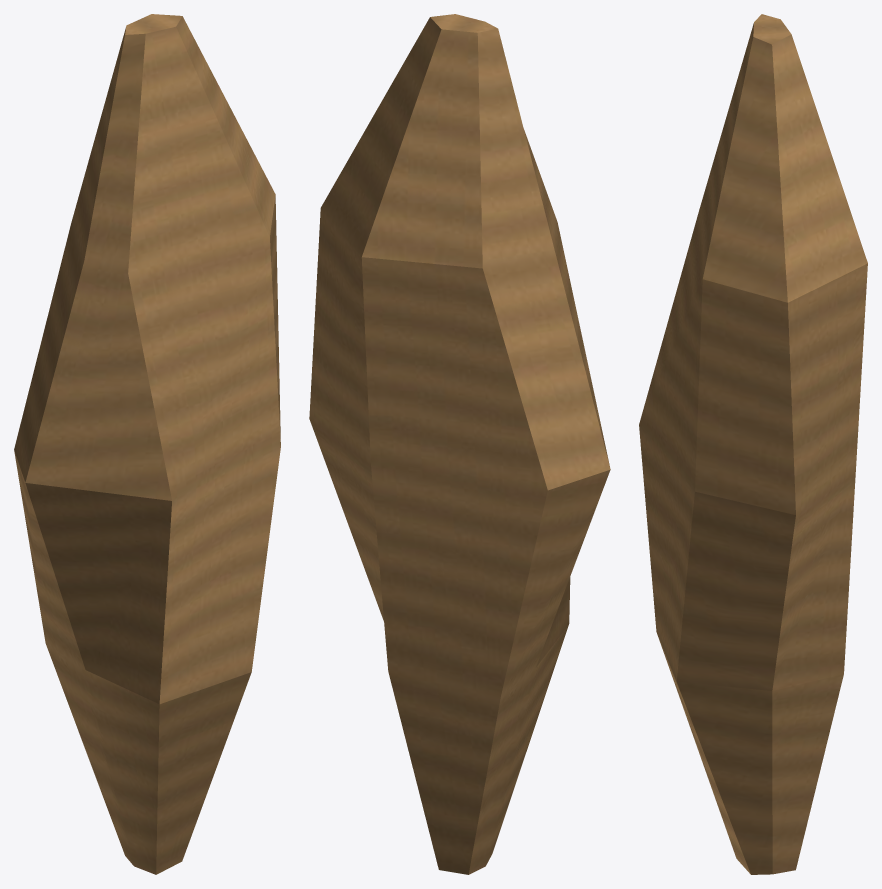
Rendered from chip1.glb.
3 renders of one model, left to right at view 1: azimuth 30°, elevation 25°; view 2: azimuth 150°, elevation 25°; view 3: azimuth 270°, elevation 25°, orthographic.
Parts seen in each view (by area): view 1: chip_2; view 2: chip_2; view 3: chip_2.
Boxes of the visible parts, x1,y1,x2,y2 form: chip_2: [14, 14, 280, 874]; chip_2: [309, 14, 610, 874]; chip_2: [639, 14, 867, 874].
Size of the model in its own units: 0.00443 by 0.0128 by 0.00317.
Materials: 1 (1 with a texture image).
